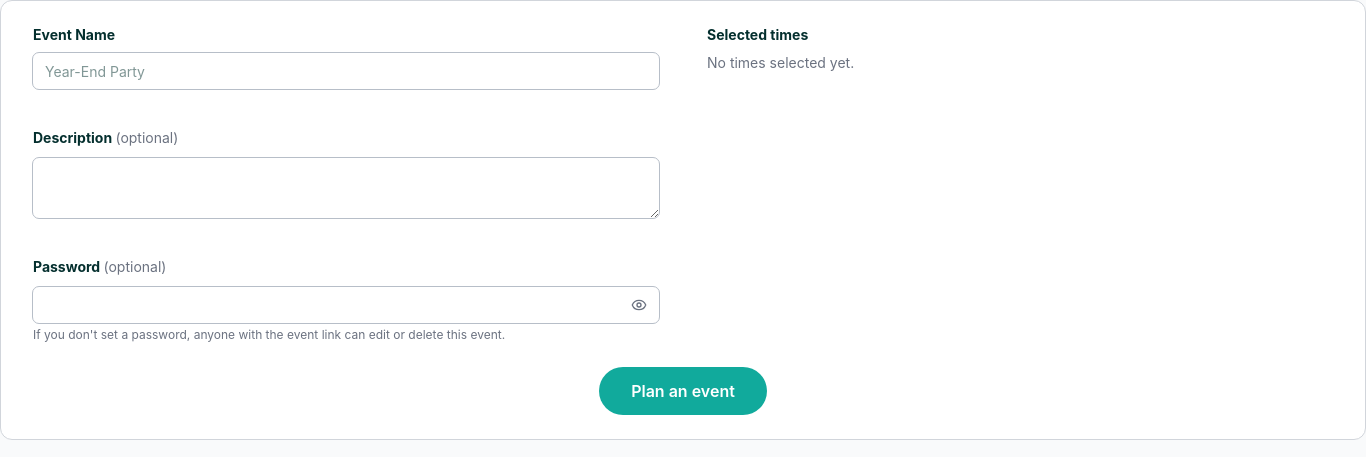
Test: EventCreateForm › requires an event name and at least one time option before submitting
Click the button "Plan an event" at (683, 391), box [599,367,767,415]
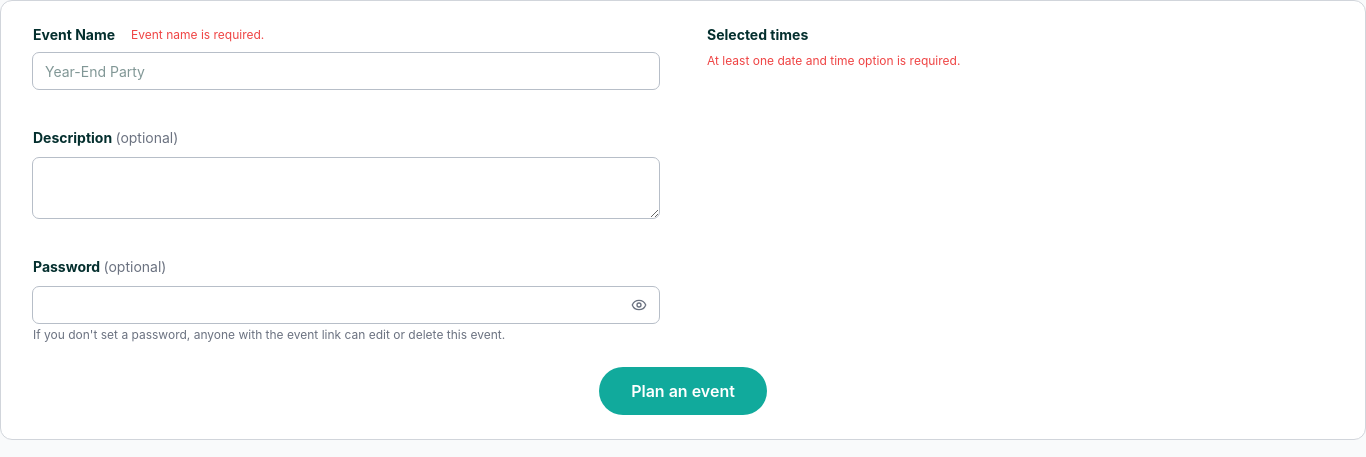
Expected: the text "Event name is required." is shown, [131,27,264,43]
Expected: the text "At least one date and time option is required." is shown, [707,53,960,68]
Expected: the text "No times selected yet." is gone
